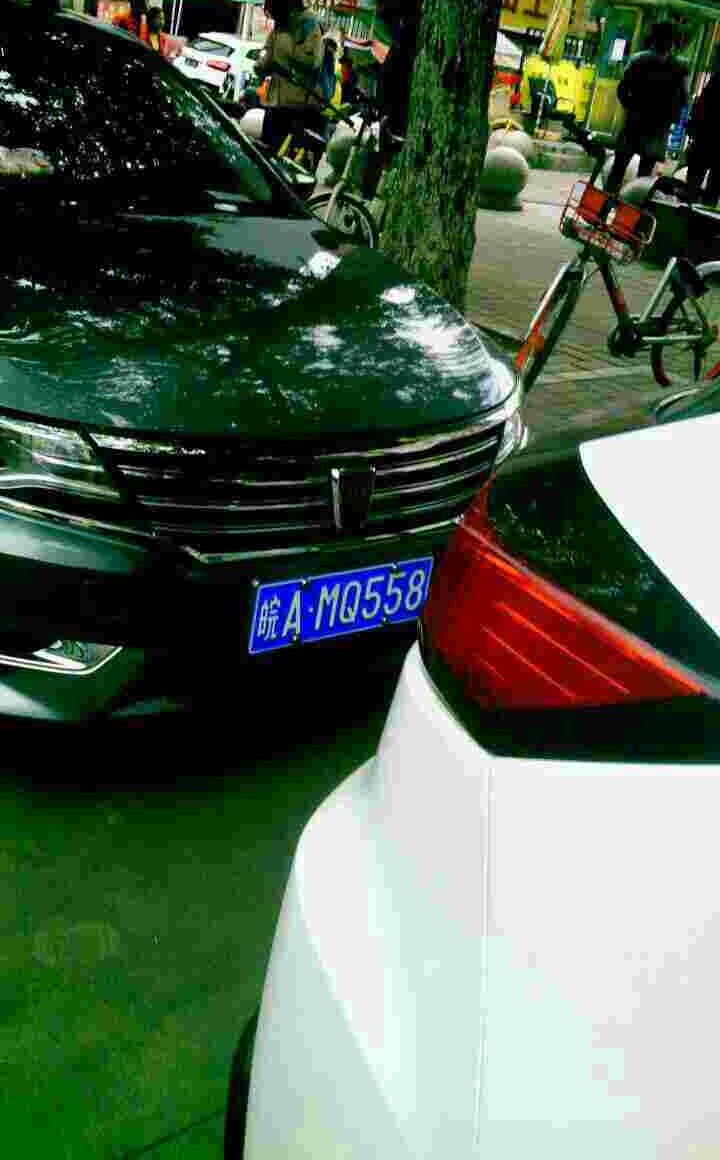car: (241, 577, 429, 644)
